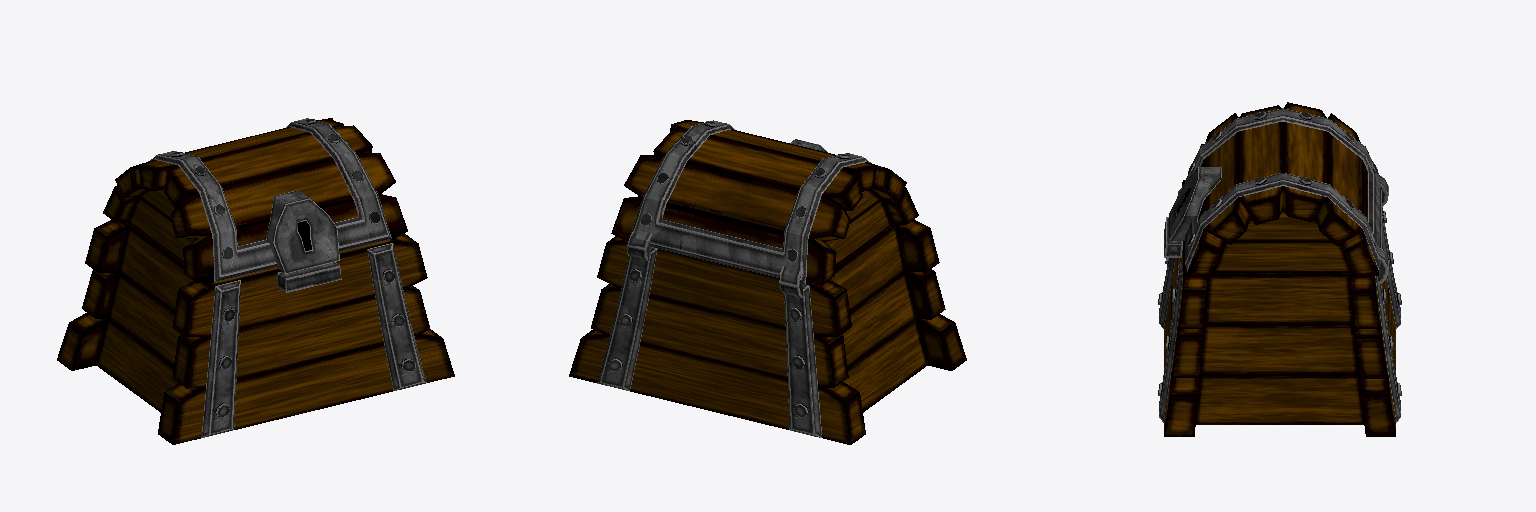
3 views of the same model, side by side, from view 1: azimuth 30°, elevation 25°; view 2: azimuth 150°, elevation 25°; view 3: azimuth 270°, elevation 25° (orthographic).
Parts seen in each view (by area): view 1: Chest_bottom, Upper_part; view 2: Chest_bottom, Upper_part; view 3: Chest_bottom, Upper_part.
Boxes of the visible parts, box(x1,y1,x2,y2) form: Chest_bottom: box(57, 220, 454, 444); Upper_part: box(103, 118, 407, 282); Chest_bottom: box(569, 219, 966, 444); Upper_part: box(611, 120, 918, 297); Chest_bottom: box(1158, 180, 1401, 436); Upper_part: box(1169, 102, 1388, 284).
Bounding box in the file's own units: 2.25 × 1.71 × 1.68.
Materials: 2 (2 with a texture image).